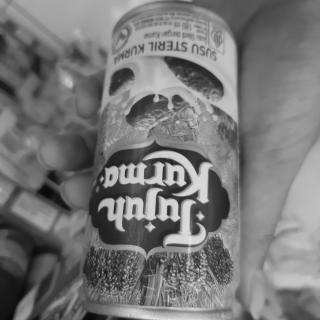alumunium_can: (80, 0, 241, 320)
